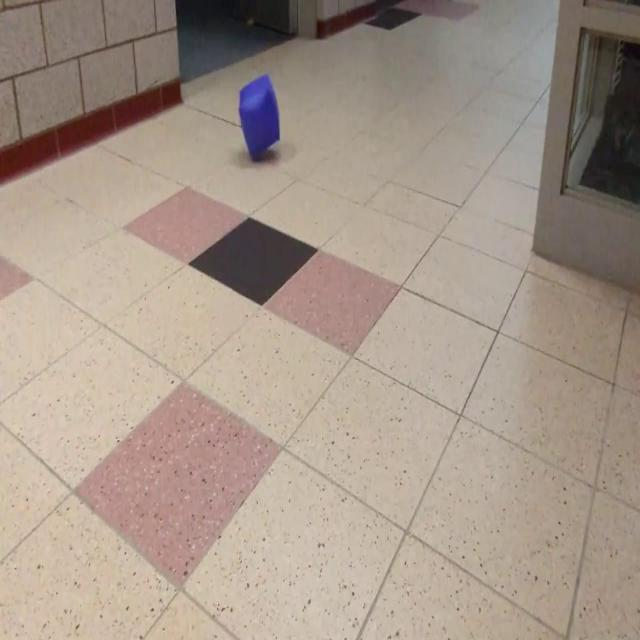frc_cube: (238, 74, 280, 164)
